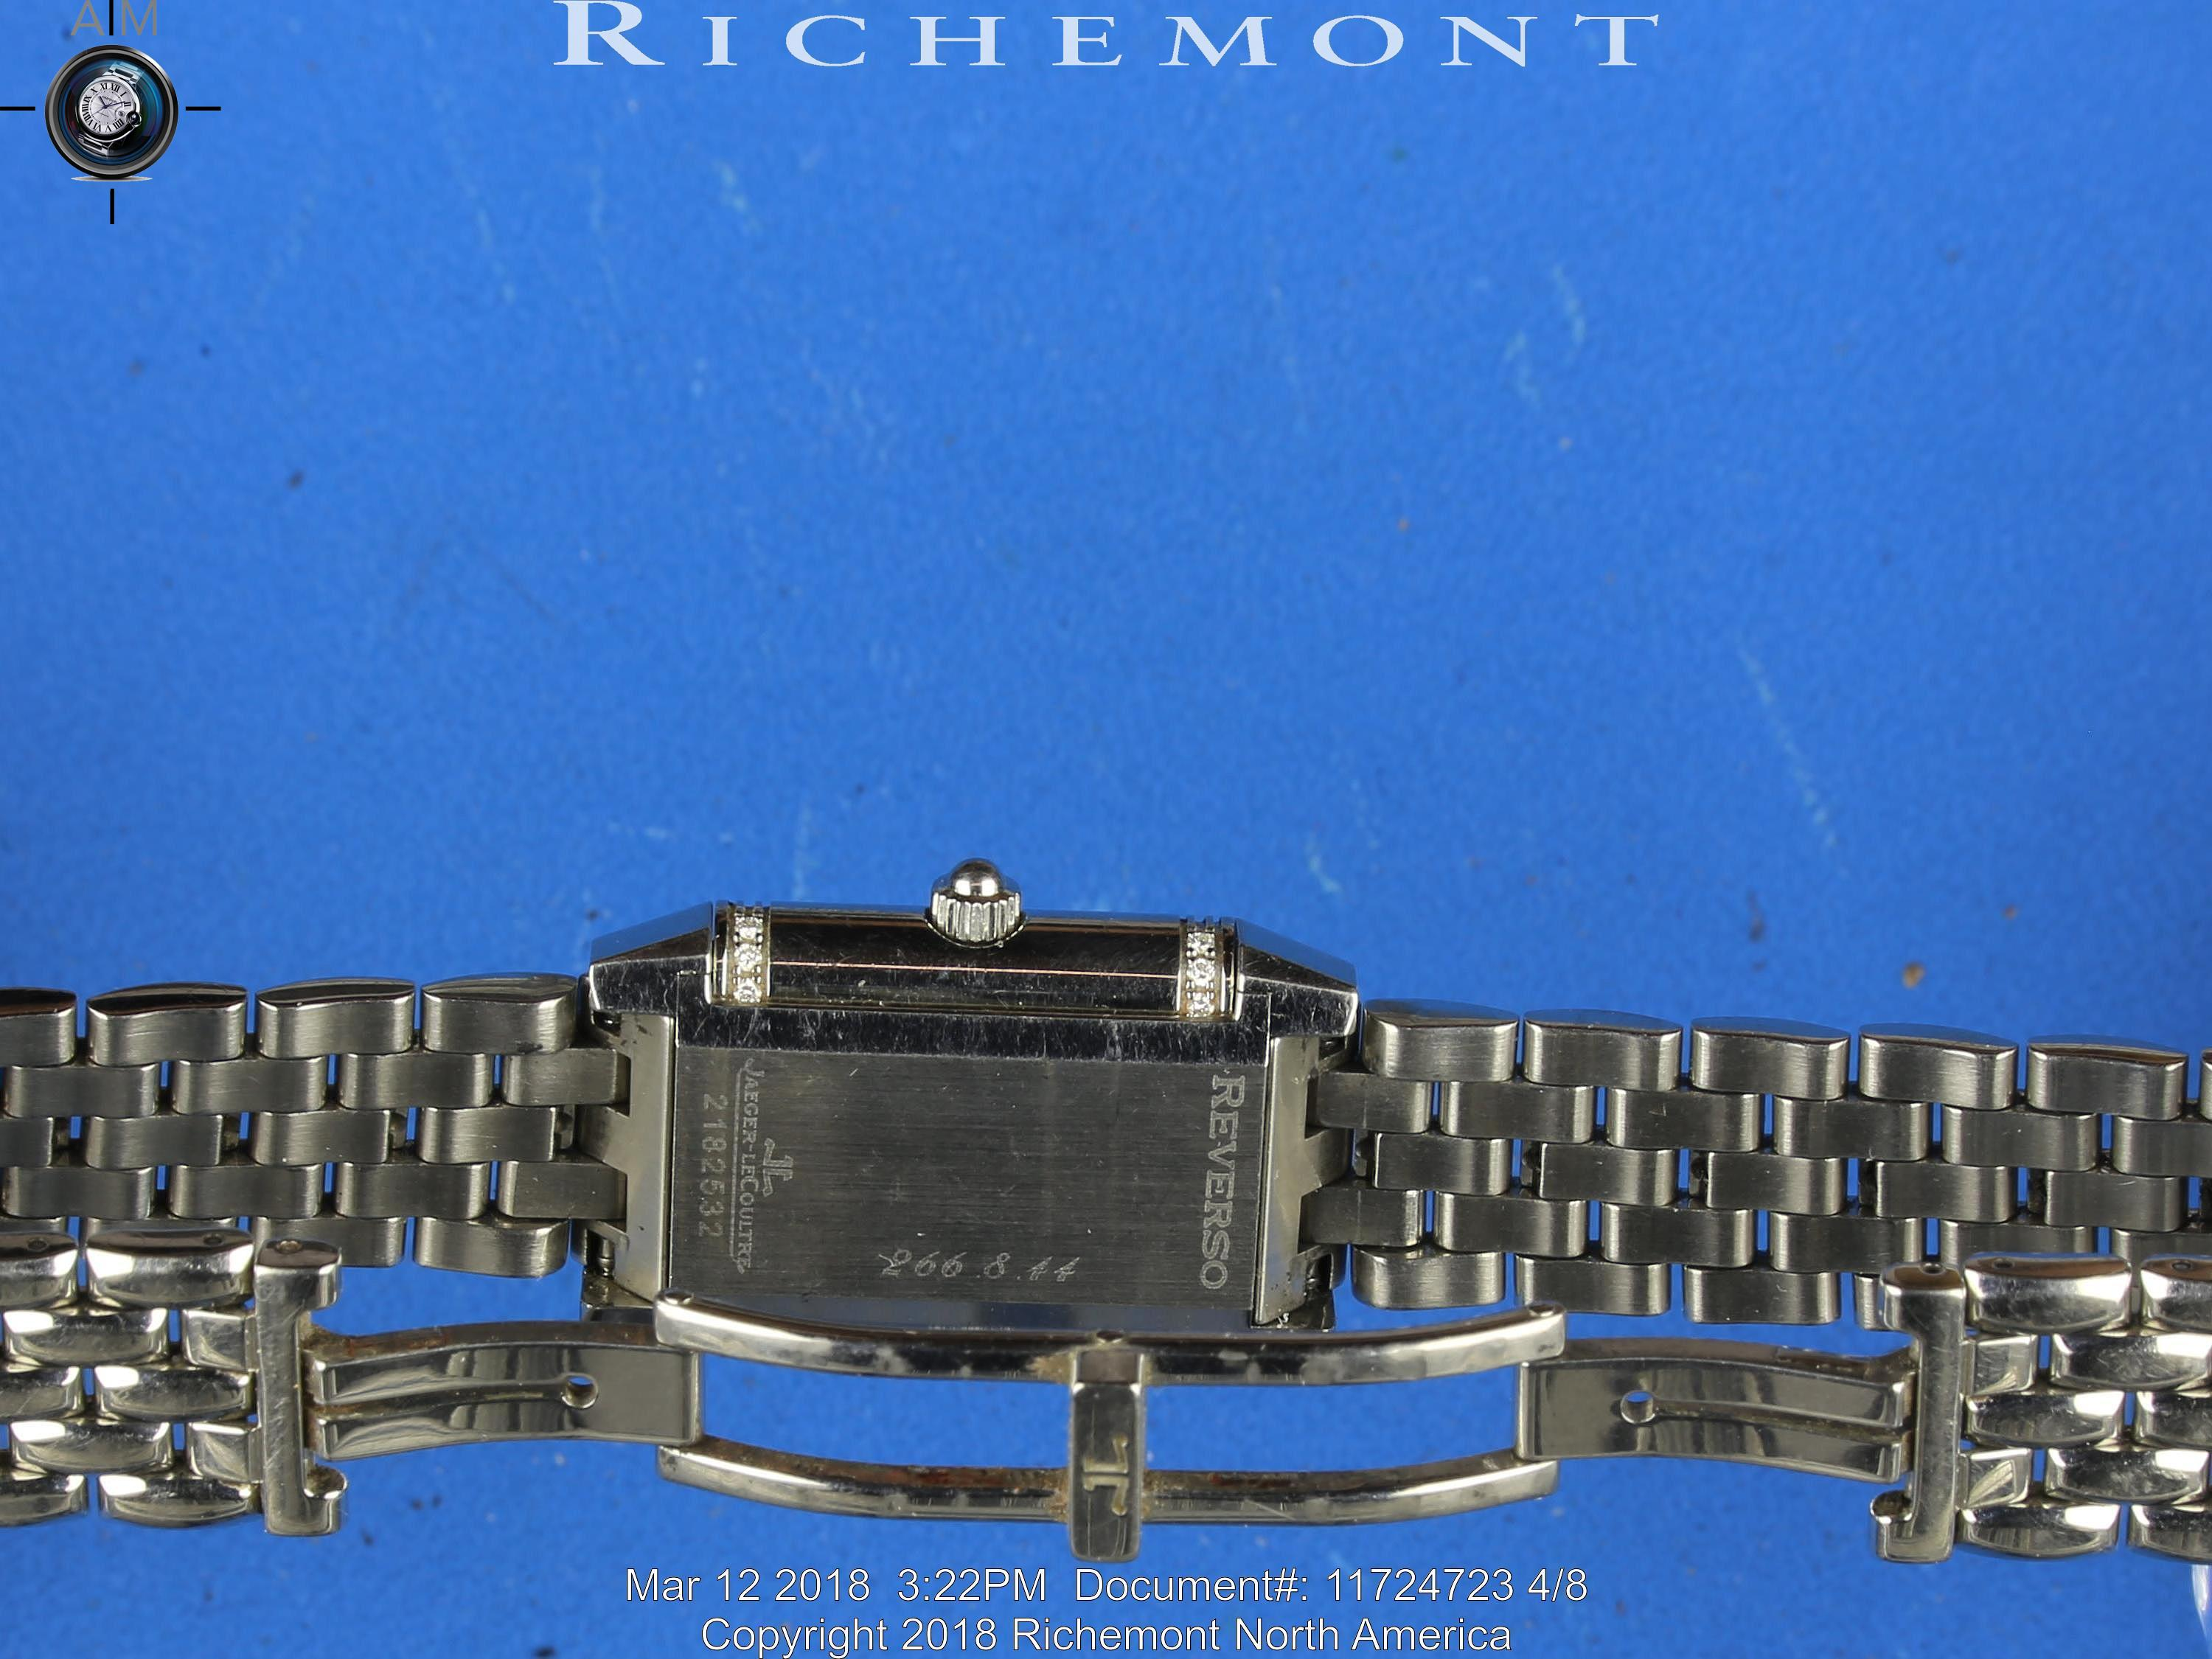Watch Back Case: (573, 866, 1369, 1328)
